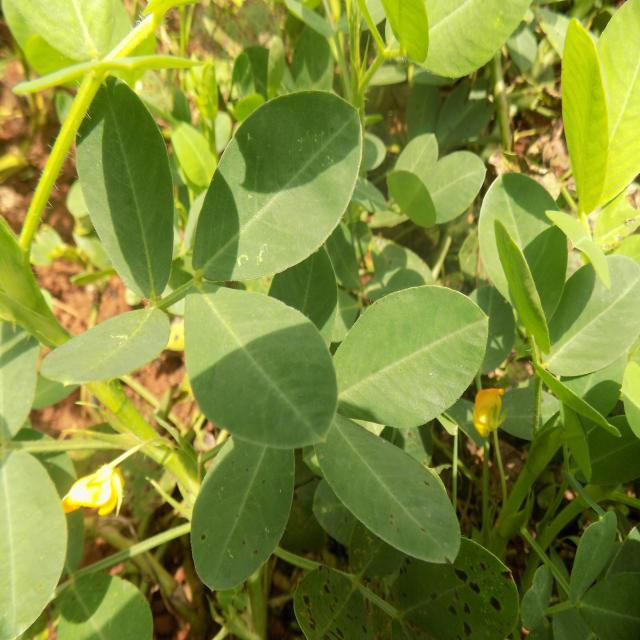Ground nut_healthy: (193, 90, 357, 279), (314, 283, 491, 429), (182, 287, 338, 446), (310, 408, 462, 563), (75, 70, 172, 302), (477, 163, 564, 356)
